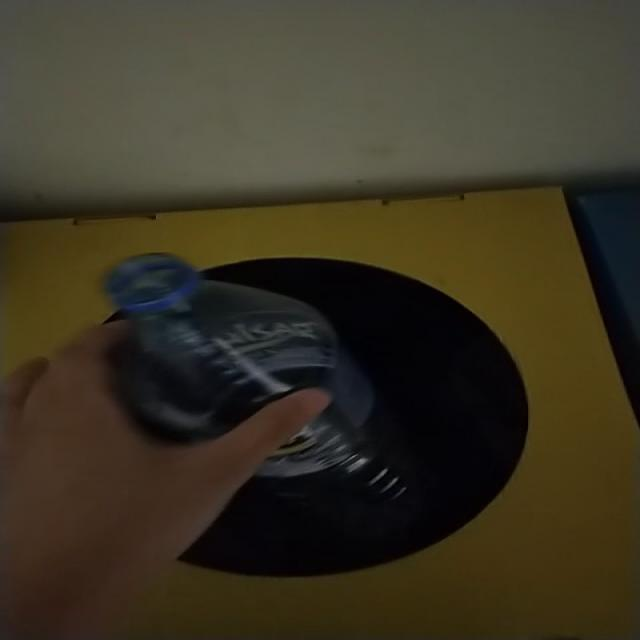plastic: (105, 254, 408, 502)
